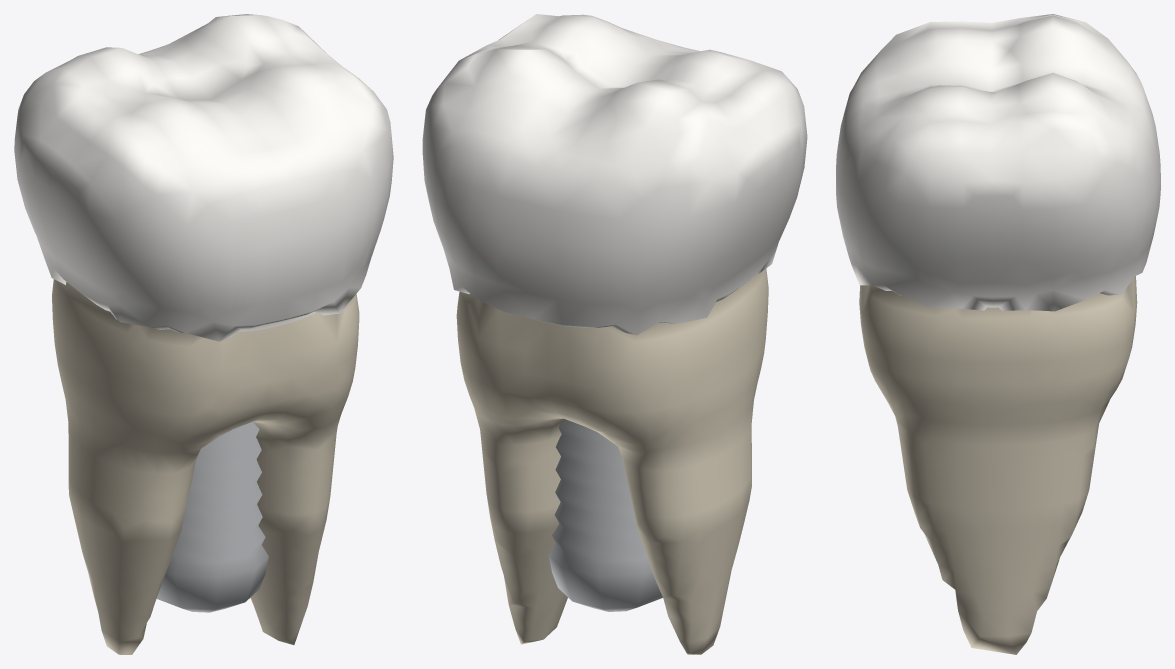
The picture shows the model from 3 angles, left to right: view 1: azimuth 30°, elevation 25°; view 2: azimuth 150°, elevation 25°; view 3: azimuth 270°, elevation 25°; orthographic projection. The views are drawn at different scales.
Visible parts, largest first — view 1: crown, root, implant; view 2: crown, root, implant; view 3: crown, root.
Boxes of the visible parts, left/top/right/bottom form: crown: left=14, top=14, right=393, bottom=341; root: left=52, top=279, right=359, bottom=654; implant: left=156, top=422, right=268, bottom=612; crown: left=422, top=14, right=807, bottom=335; root: left=456, top=268, right=768, bottom=654; implant: left=548, top=419, right=662, bottom=611; crown: left=836, top=14, right=1160, bottom=311; root: left=859, top=276, right=1137, bottom=654.
Bounding box in the file's own units: 11.18 × 20.68 × 10.68.
